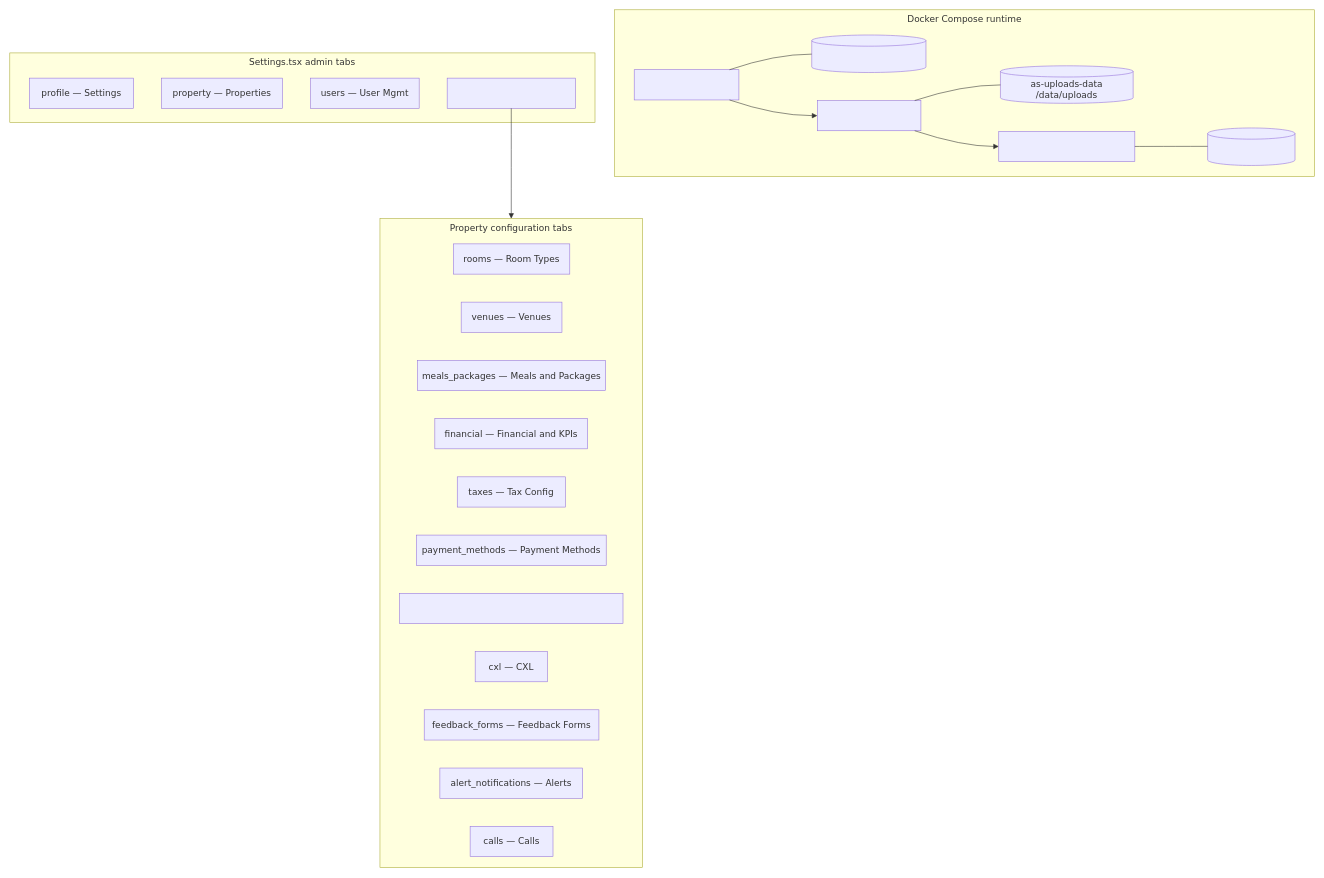
Some shapes in this 1324 by 878 pixel diagram are drawn without their labels. Here are the shapes that lost their labels. From the top down, the centre of each, then its label:
At point (868, 53): "as-frontend-node-modules".
At point (511, 93): "config — Configurations".
At point (686, 84): "as-frontend :5173".
At point (869, 115): "as-backend :8000".
At point (1066, 146): "as-postgres-V2 :5433 host".
At point (1251, 146): "as-postgres-v2-data".
At point (511, 608): "segments_types — Segments and Account Types".
